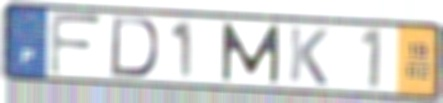1: (168, 20, 195, 80), (358, 27, 382, 92)
D: (107, 15, 161, 80)
F: (47, 10, 106, 78)
K: (286, 25, 331, 88)
M: (219, 21, 283, 85)
